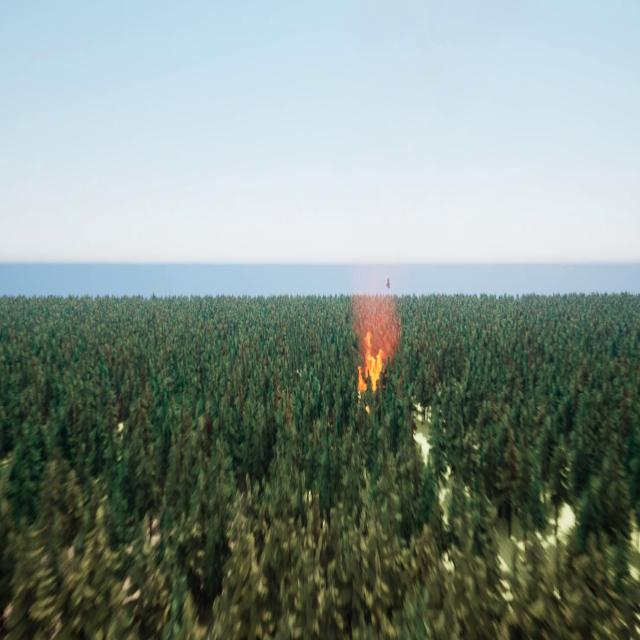fire: (356, 330, 384, 396)
smoke: (349, 285, 400, 361)
